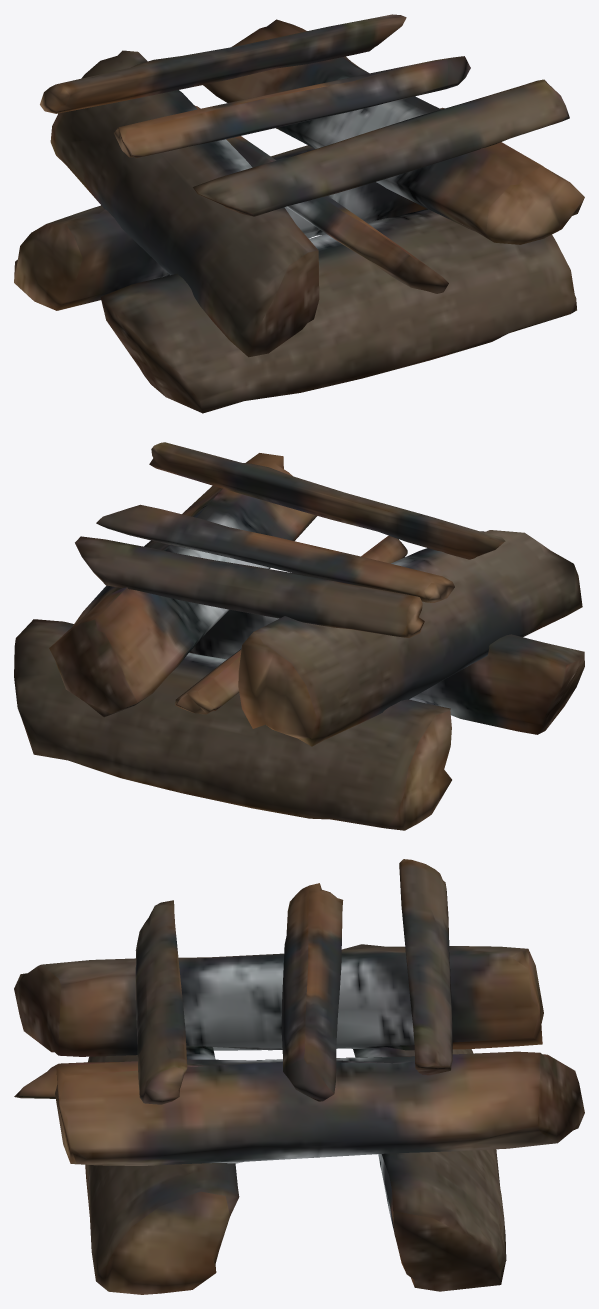
File: SM_Campfire_1b2e53.glb
The picture shows the model from 3 angles, top to bottom: view 1: azimuth 30°, elevation 25°; view 2: azimuth 150°, elevation 25°; view 3: azimuth 270°, elevation 25°; orthographic projection. The views are drawn at different scales.
Size of the model in its own units: 1.01 by 0.4637 by 0.9931.
Materials: 1 (1 with a texture image).
